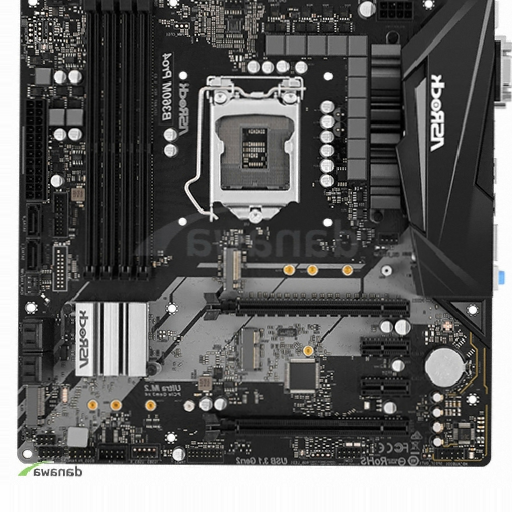CPU: (208, 76, 305, 225)
GPU: (204, 292, 408, 322), (201, 414, 409, 442)
MOTHERBOARD: (17, 1, 496, 466)
RAM: (84, 1, 151, 283)
SSD: (239, 328, 264, 370), (224, 246, 242, 292)
